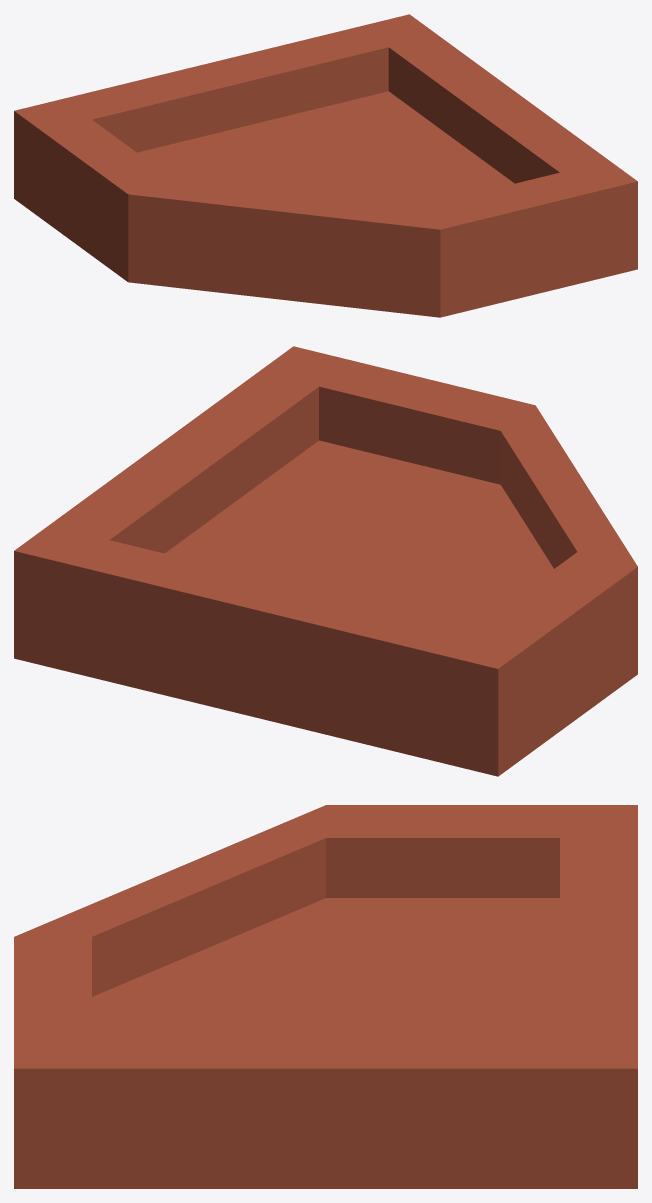
The model's file is modularBuildings_015.obj.
3 views of the same model, one above another, from view 1: azimuth 30°, elevation 25°; view 2: azimuth 150°, elevation 25°; view 3: azimuth 270°, elevation 25° (orthographic). The views are drawn at different scales.
Parts seen in each view (by area): view 1: Mesh1 Group1 Model; view 2: Mesh1 Group1 Model; view 3: Mesh1 Group1 Model.
Boxes of the visible parts, x1,y1,x2,y2 form: Mesh1 Group1 Model: (14, 14, 637, 317); Mesh1 Group1 Model: (14, 346, 637, 776); Mesh1 Group1 Model: (14, 805, 637, 1188).
Bounding box in the file's own units: 1 × 0.2125 × 1.
